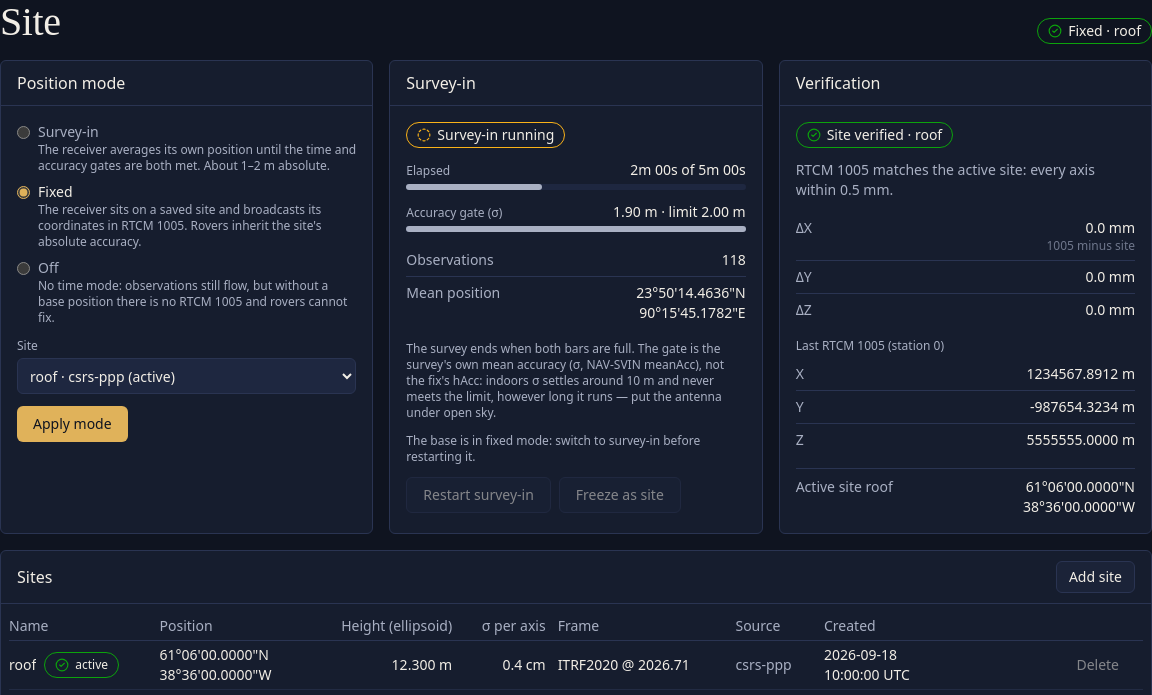
Site page › adds a site from the ECEF form
The width and height of the screenshot is (1152, 695).
Click the button "Add site" at point(1095, 577), box [1056,561,1135,593]
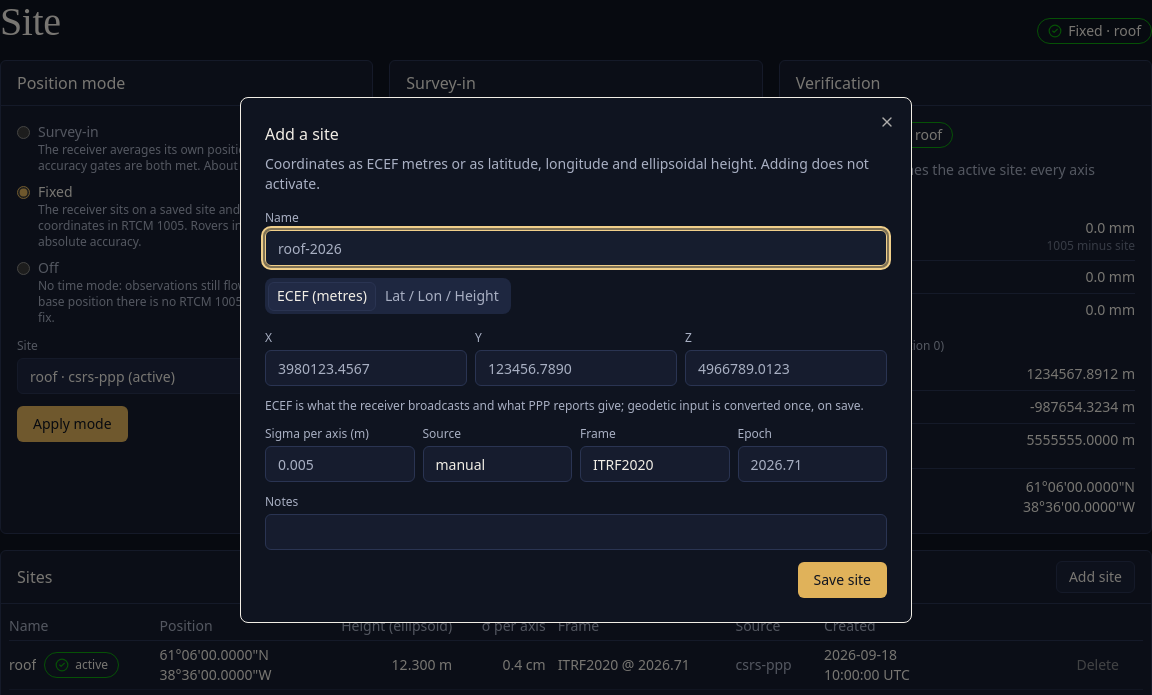
Type "new" into the field labelled "Name" at point(576, 248), box [265,230,887,266]
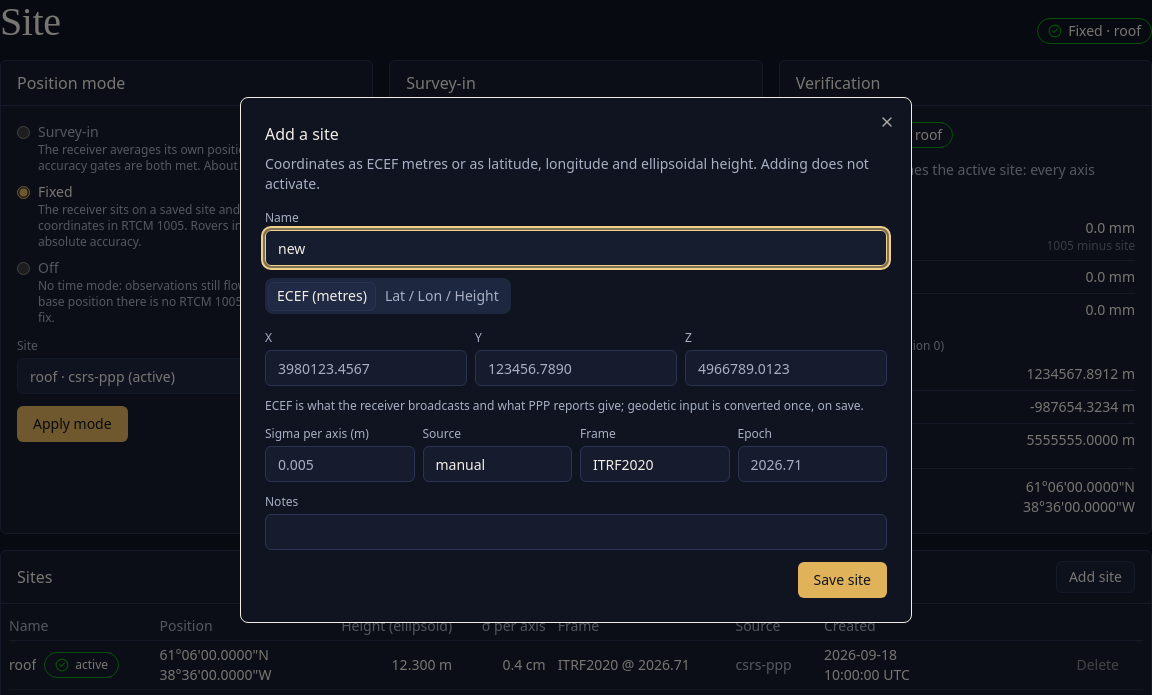
Type "1234567.8912" into the field labelled "X" at point(366, 368), box [265,350,467,386]
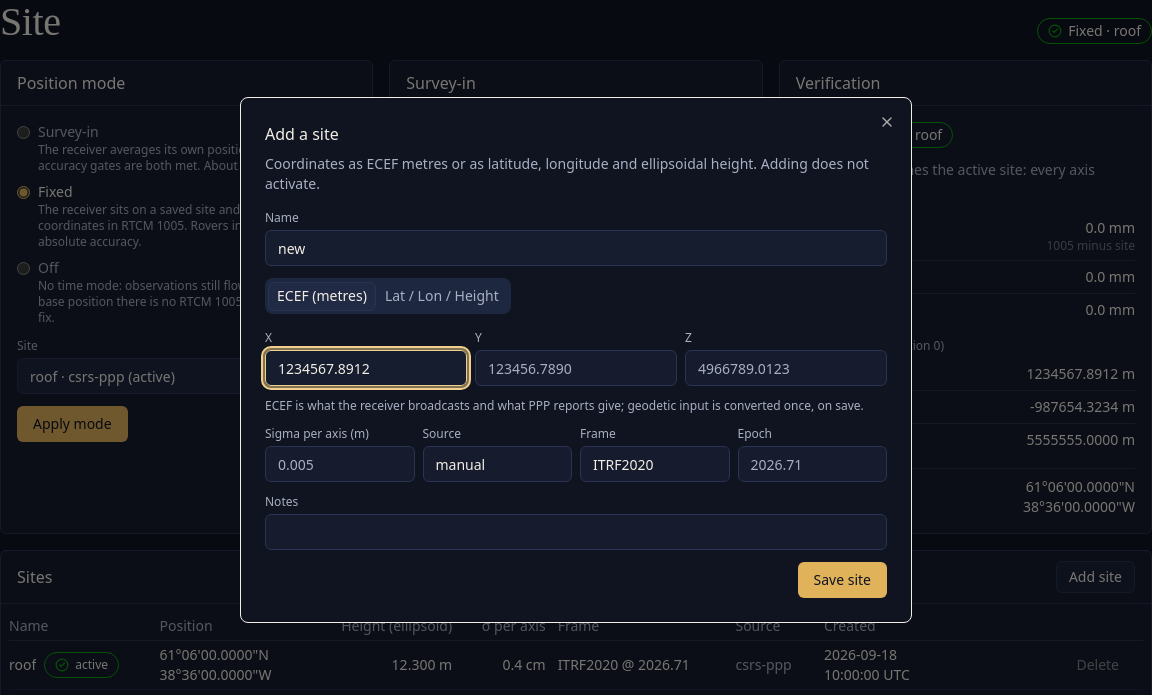
Type "-987654.3234" into the field labelled "Y" at point(576, 368), box [475,350,677,386]
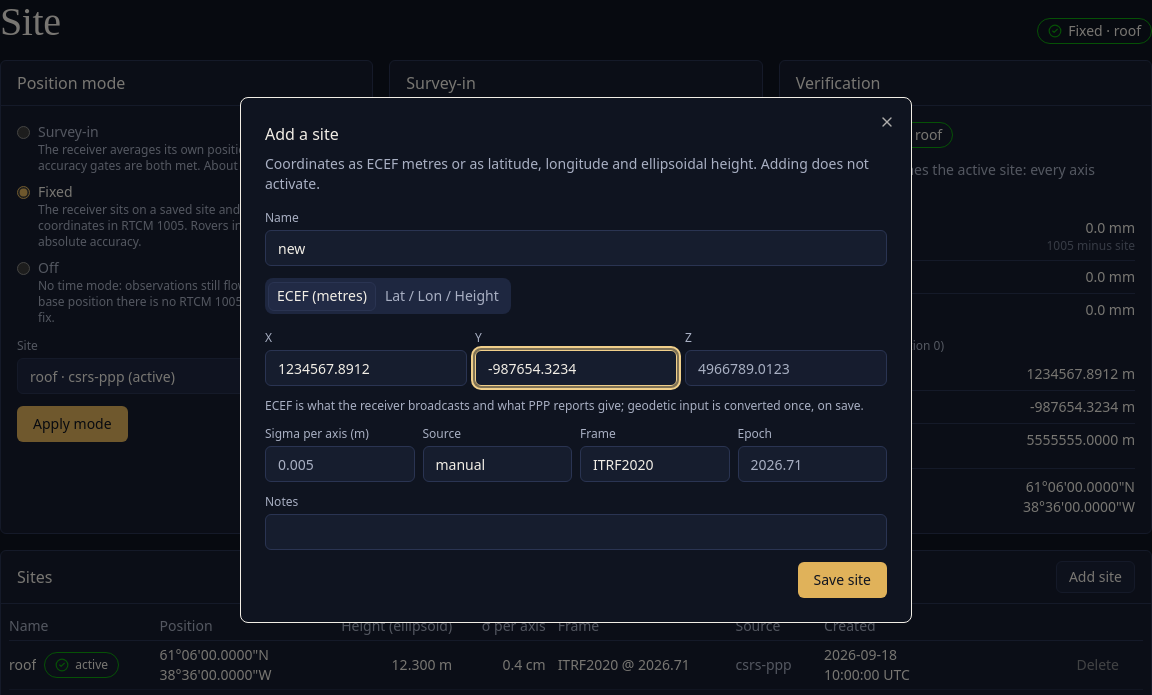
Type "5555555.0" into the field labelled "Z" at point(786, 368), box [685,350,887,386]
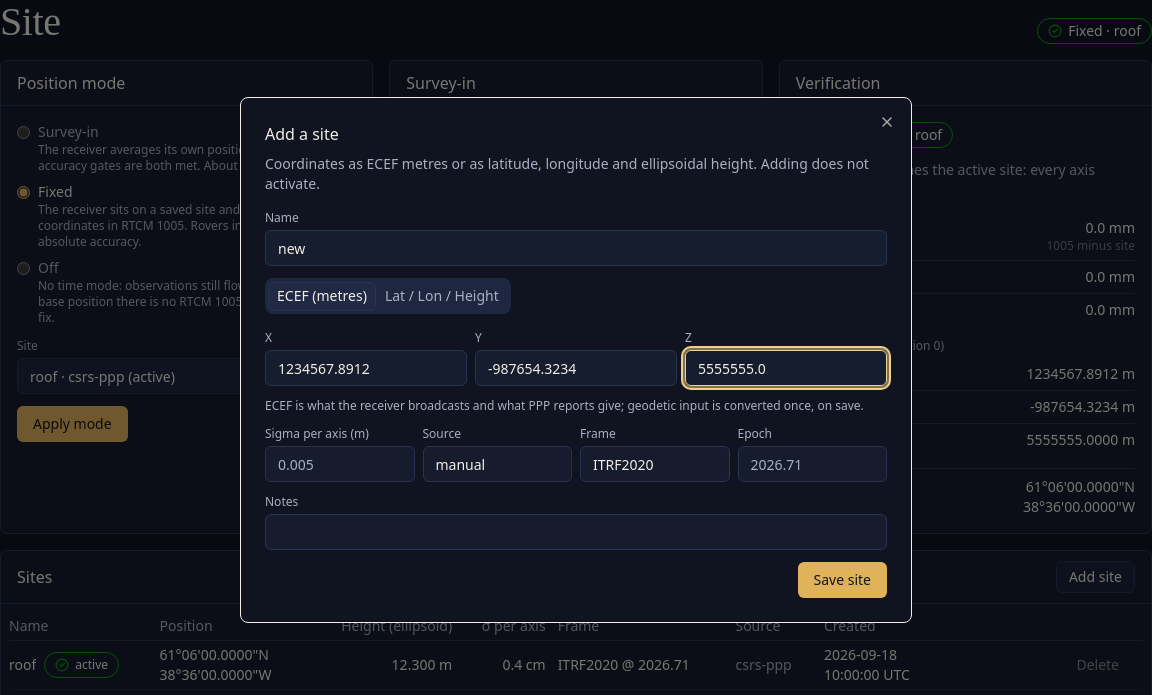
Click the button "Save site" at point(842, 580), box [798,562,887,598]
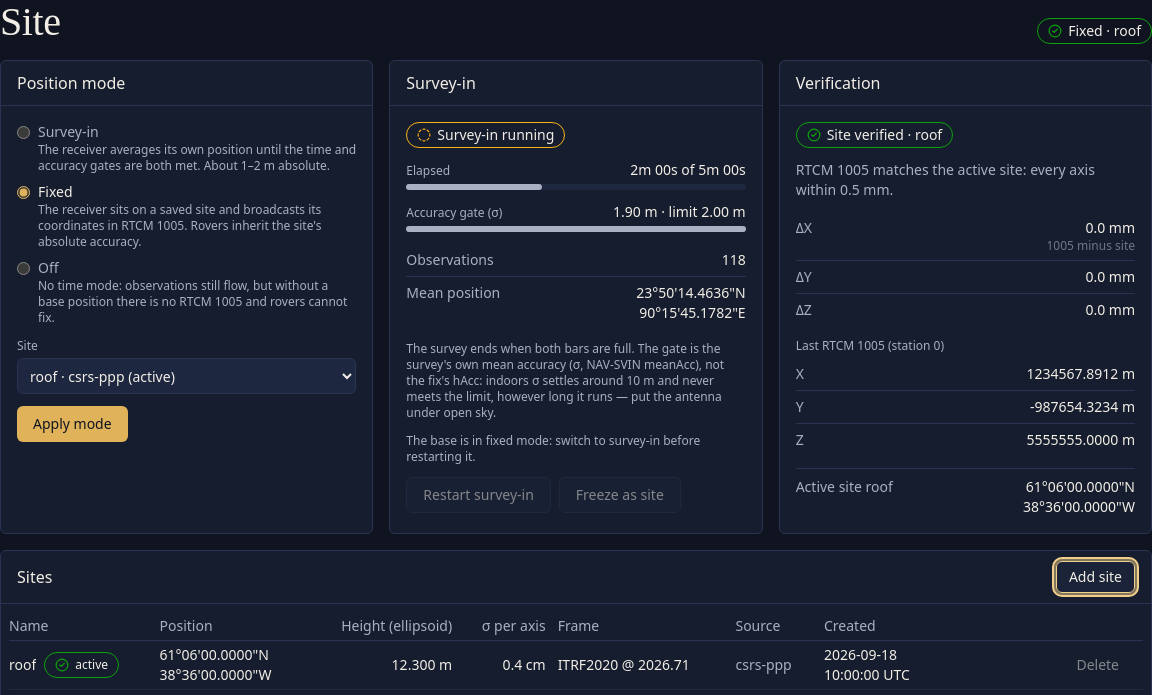
Expected: the dialog is gone
